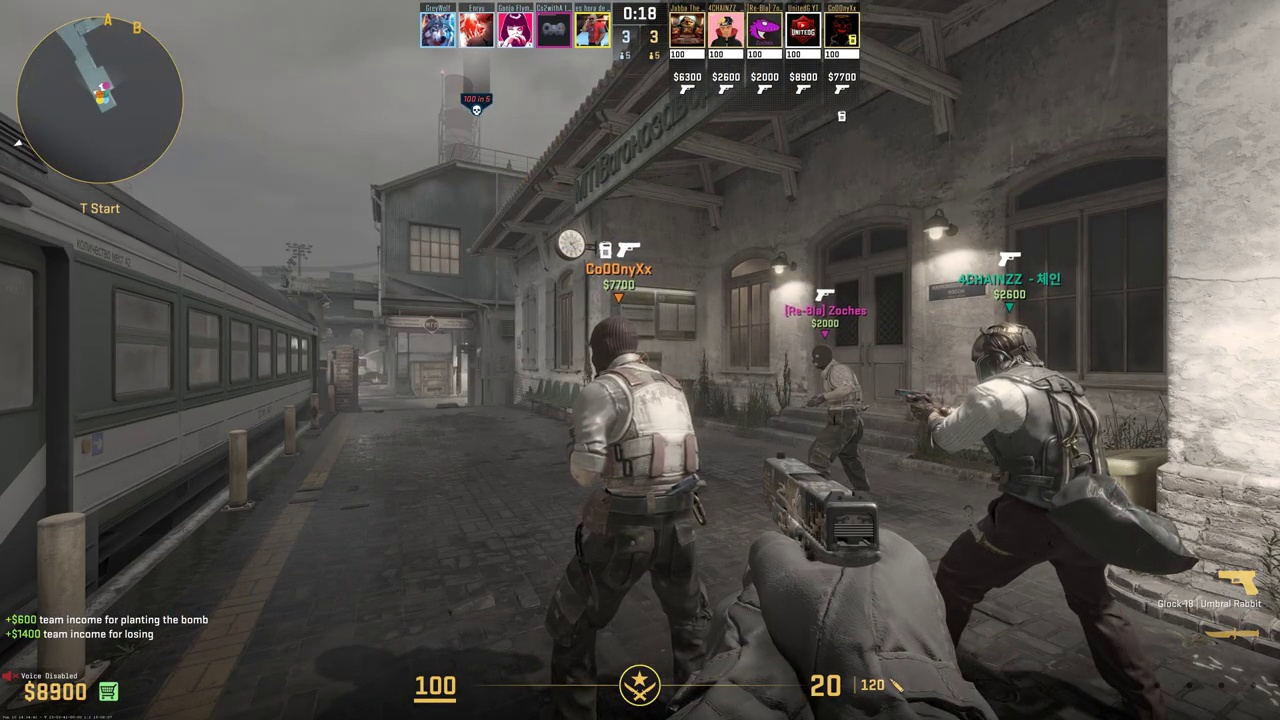Terrorist: (935, 321, 1146, 685), (549, 316, 707, 707), (808, 345, 867, 497)
